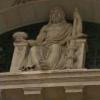Statue: (4, 6, 86, 74)
